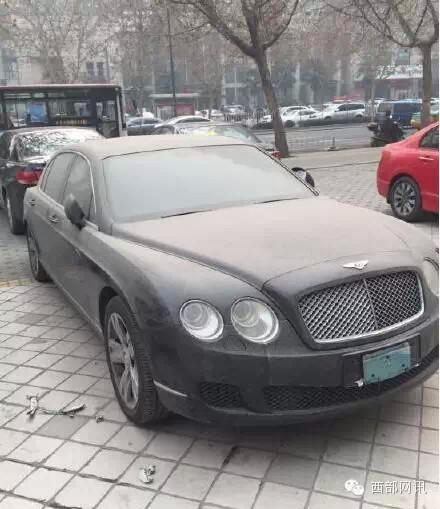bus: (1, 83, 125, 158)
car: (16, 132, 438, 430), (1, 126, 126, 233), (377, 114, 440, 222), (146, 115, 228, 141), (299, 101, 375, 126), (374, 96, 429, 130), (255, 104, 325, 129), (119, 113, 167, 137), (409, 95, 440, 128)
